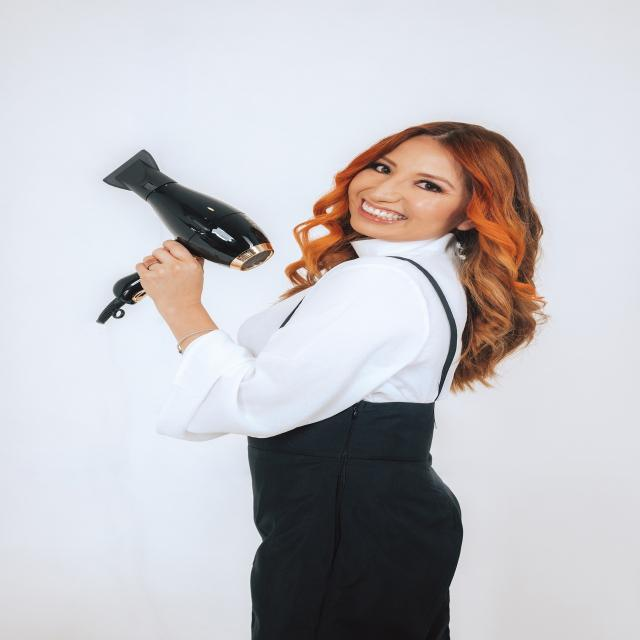dryer: (95, 147, 276, 324)
